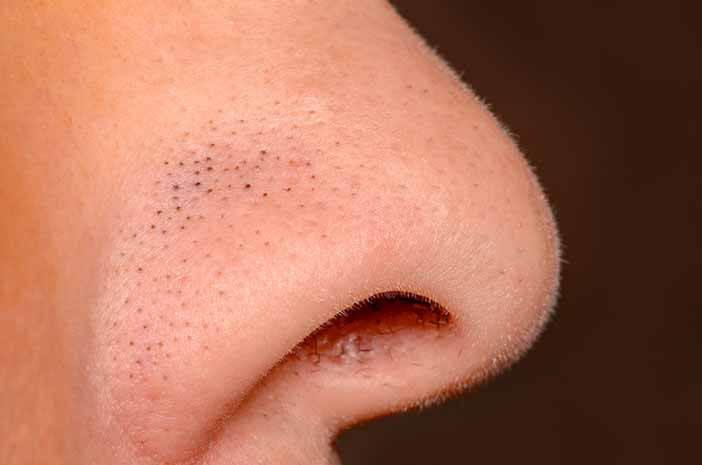Acne: (98, 102, 564, 385)
